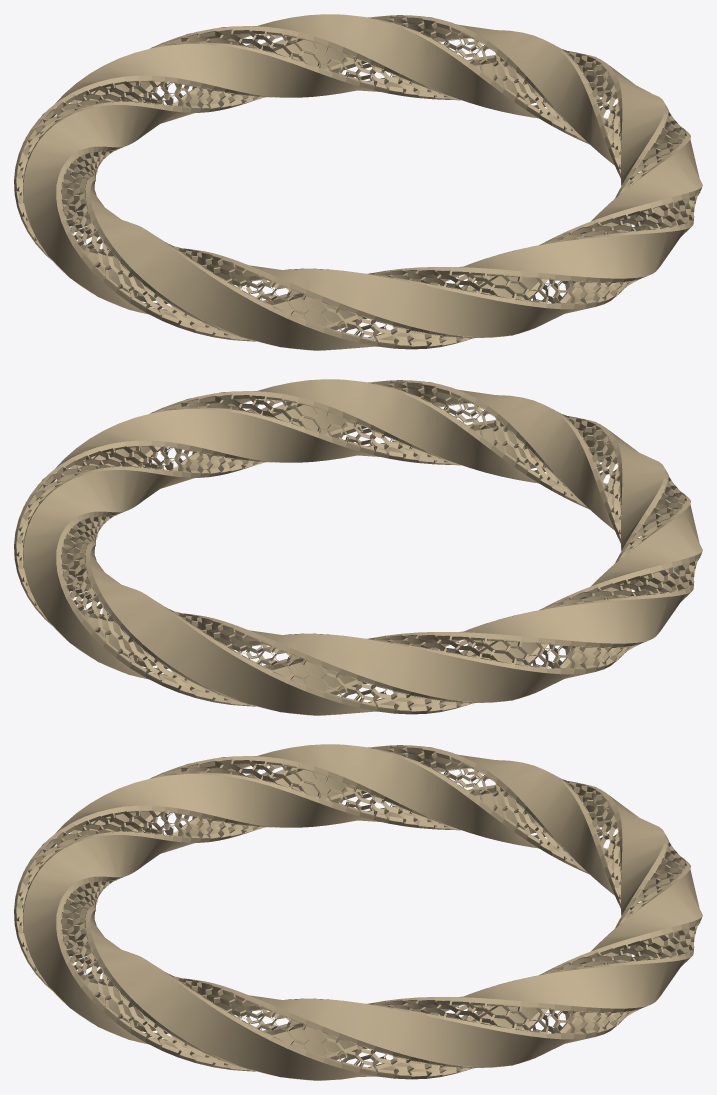
File: bracelet.glb
3 renders of one model, top to bottom at view 1: azimuth 30°, elevation 25°; view 2: azimuth 150°, elevation 25°; view 3: azimuth 270°, elevation 25°, orthographic.
Parts seen in each view (by area): view 1: Object01_02 - Default_0; view 2: Object01_02 - Default_0; view 3: Object01_02 - Default_0.
Boxes of the visible parts, x1,y1,x2,y2 form: Object01_02 - Default_0: [14, 14, 702, 350]; Object01_02 - Default_0: [14, 379, 702, 715]; Object01_02 - Default_0: [14, 744, 702, 1080].
Size of the model in its own units: 0.992 by 0.1194 by 1.
